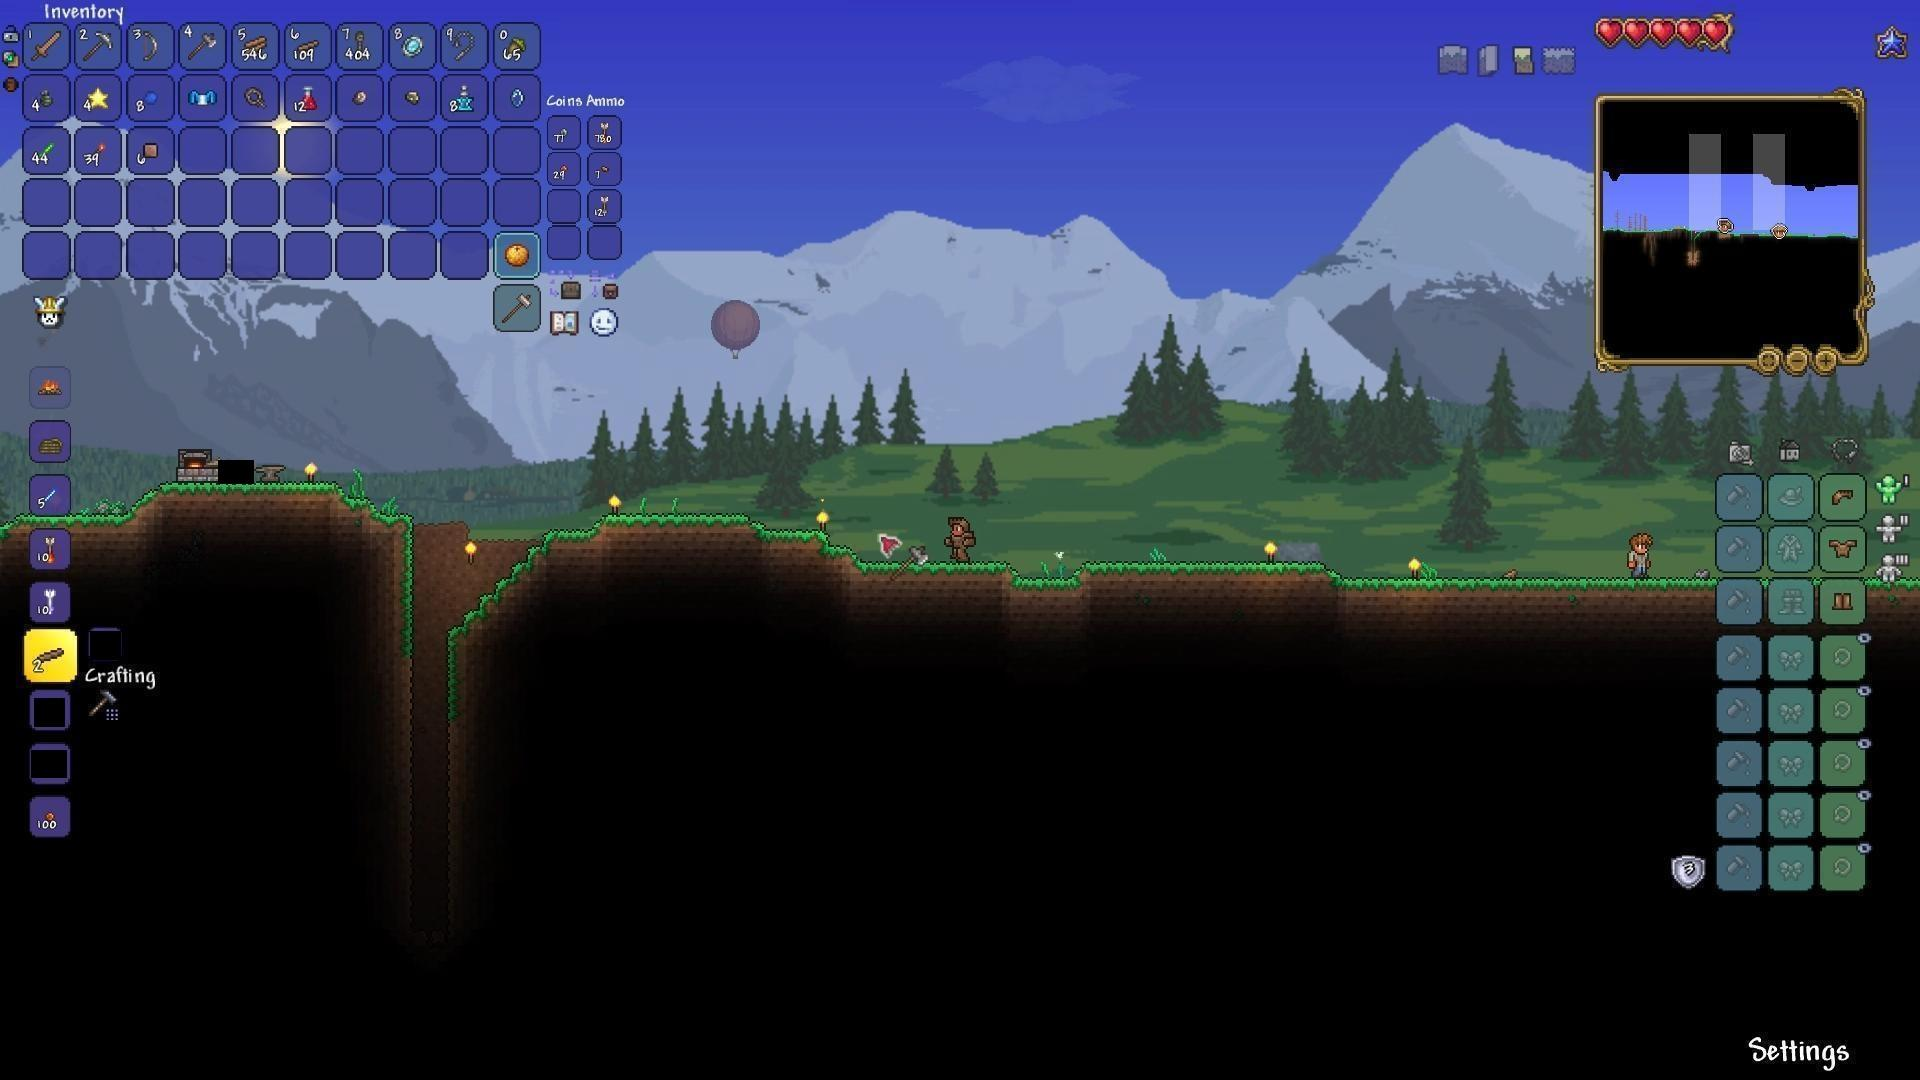breastplate: (1826, 537, 1858, 559)
helmet: (1825, 480, 1859, 512)
legs: (1829, 589, 1854, 618)
wood: (239, 33, 269, 61)
